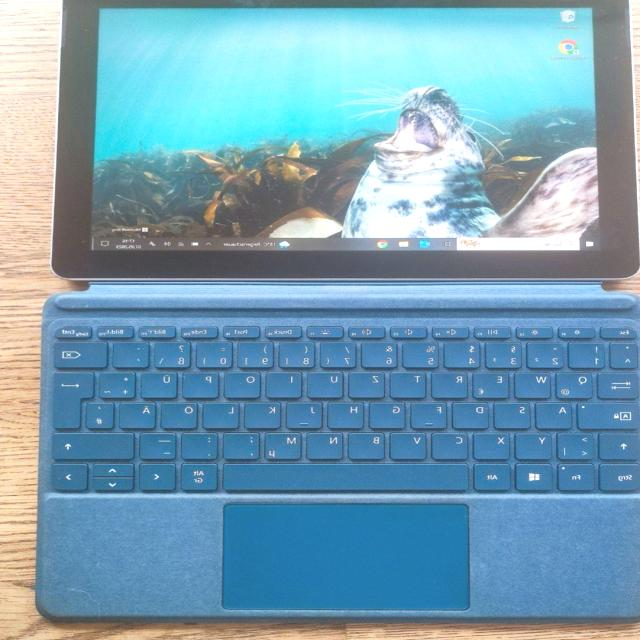0: (199, 339, 237, 367)
1: (570, 340, 608, 368)
2: (529, 339, 569, 367)
3: (488, 339, 526, 367)
4: (446, 339, 484, 367)
5: (405, 340, 443, 367)
6: (361, 341, 397, 368)
7: (323, 340, 359, 367)
8: (283, 340, 319, 367)
9: (240, 340, 278, 368)
a: (538, 400, 576, 428)
accent: (115, 339, 153, 367)
ae: (121, 400, 159, 428)
alt-left: (476, 462, 514, 490)
altgr-right: (183, 462, 221, 490)
b: (350, 430, 388, 458)
c: (434, 431, 472, 459)
caret: (612, 339, 640, 367)
comma: (225, 431, 263, 459)
d: (454, 400, 492, 428)
del: (54, 339, 111, 367)
e: (475, 370, 513, 398)
enter: (55, 369, 97, 428)
f: (413, 400, 449, 428)
g: (372, 400, 408, 428)
h: (330, 400, 368, 428)
hash: (88, 400, 117, 428)
i: (269, 369, 305, 397)
j: (289, 400, 325, 428)
k: (246, 400, 284, 428)
keyboard: (44, 313, 640, 499)
l: (205, 400, 243, 428)
less: (559, 431, 599, 459)
m: (268, 430, 306, 458)
minus: (142, 430, 180, 458)
n: (309, 430, 347, 458)
o: (226, 370, 264, 398)
oe: (163, 400, 201, 428)
p: (185, 369, 223, 397)
plus: (101, 370, 139, 398)
point: (184, 430, 222, 458)
q: (557, 371, 596, 399)
r: (433, 370, 471, 398)
s: (496, 400, 534, 428)
shift-left: (602, 430, 640, 458)
shift-lock: (580, 400, 640, 428)
shift-right: (53, 430, 137, 458)
space: (224, 461, 474, 491)
ss: (157, 339, 195, 367)
strg-left: (601, 462, 640, 490)
t: (391, 369, 429, 397)
tab: (600, 370, 640, 398)
u: (309, 370, 347, 398)
ue: (143, 370, 181, 398)
v: (392, 430, 430, 458)
w: (516, 370, 554, 398)
x: (475, 431, 513, 459)
y: (517, 431, 556, 459)
z: (351, 369, 387, 397)
